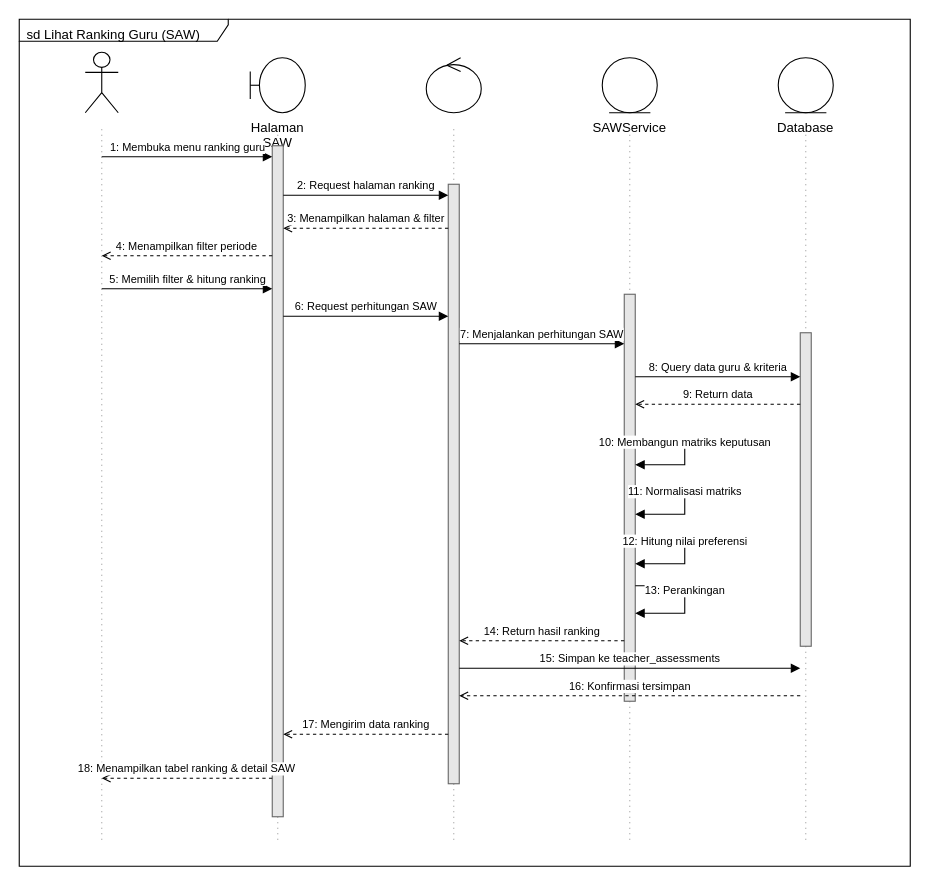
Some shapes in this 930 by 886 pixel diagram are drawn without their labels. The shapes that lost their labels are listed below. From the top down, each one's box as (x1, y1, x2, y2) in pixels, then its label:
(84, 51, 118, 113): Pengguna
(425, 57, 481, 113): SAWController
